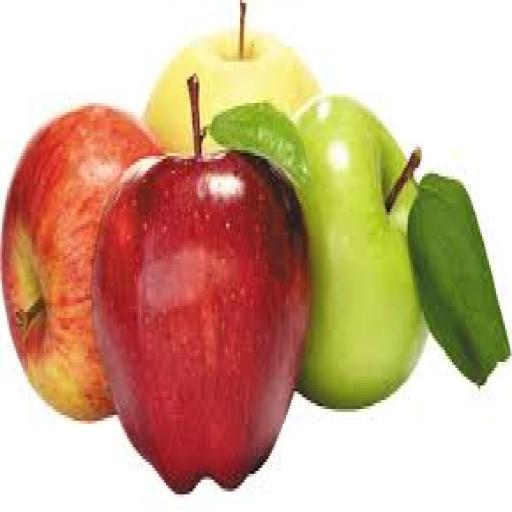Apple: (94, 124, 308, 491), (2, 106, 158, 420), (297, 98, 425, 409), (145, 27, 319, 155)
